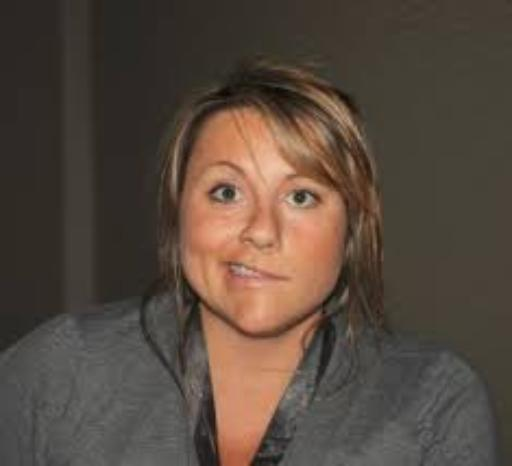left_eye: (282, 190, 326, 210)
left_lip_corner: (276, 271, 297, 289)
right_eye: (208, 185, 244, 206)
right_lip_corner: (217, 258, 238, 277)
